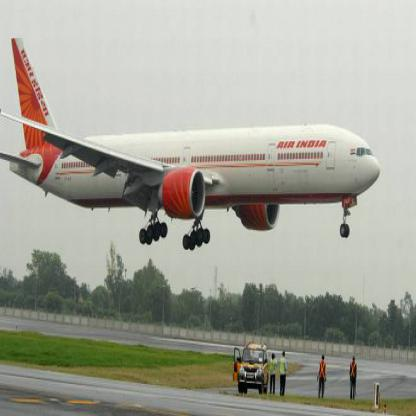CIV_Plane: (0, 33, 380, 256)
